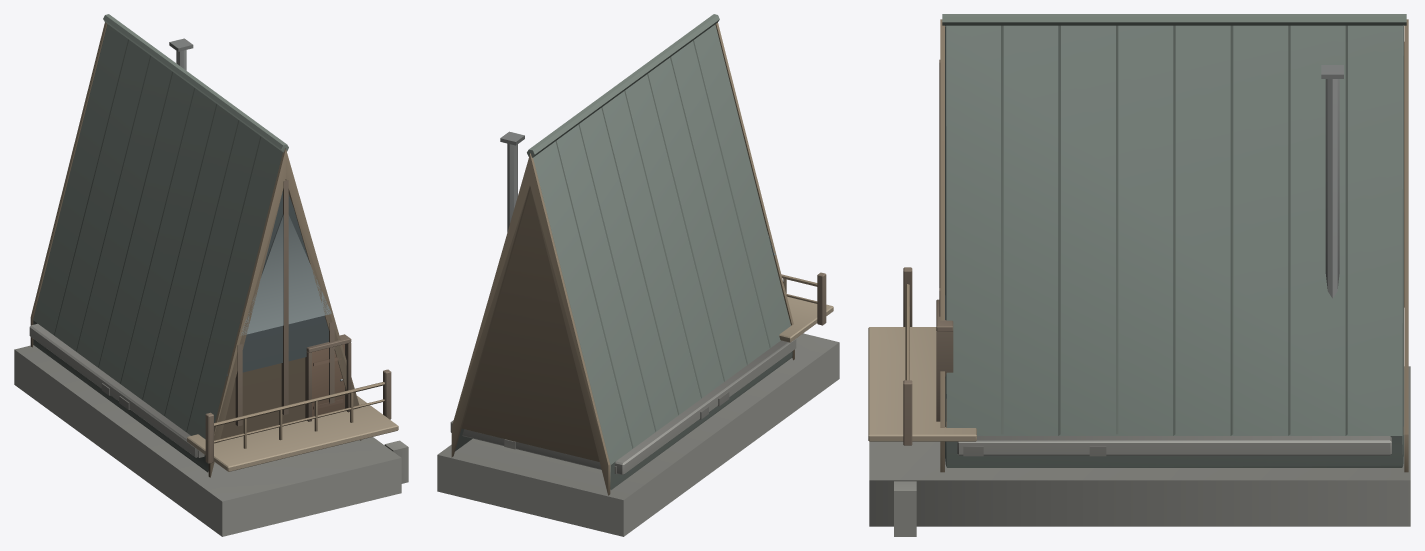
File: aframe.lod1.glb
3 renders of one model, left to right at view 1: azimuth 30°, elevation 25°; view 2: azimuth 150°, elevation 25°; view 3: azimuth 270°, elevation 25°, orthographic. The views are drawn at different scales.
Size of the model in its own units: 5.98 by 10.16 by 10.98.
